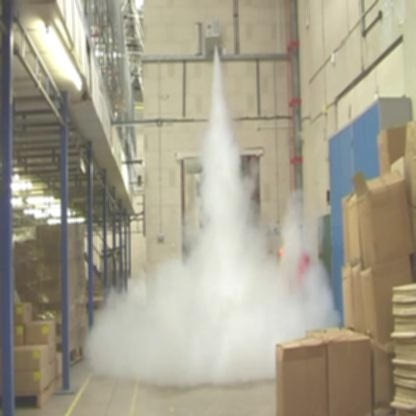smoke: (107, 41, 317, 382)
